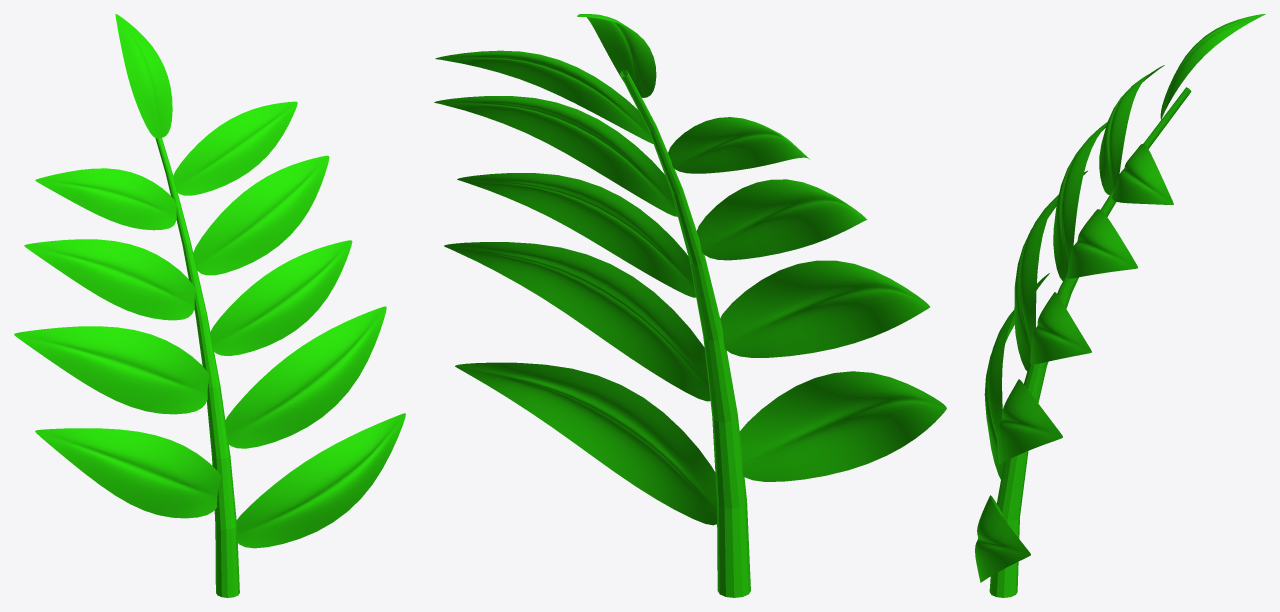
The model's file is plantOrientation.fbx.
3 renders of one model, left to right at view 1: azimuth 30°, elevation 25°; view 2: azimuth 150°, elevation 25°; view 3: azimuth 270°, elevation 25°, orthographic. The views are drawn at different scales.
Parts seen in each view (by area): view 1: Plane.002; view 2: Plane.002; view 3: Plane.002.
Part boxes in pixels (left/top/right/bottom): Plane.002: left=14, top=14, right=405, bottom=597; Plane.002: left=434, top=14, right=946, bottom=597; Plane.002: left=975, top=14, right=1265, bottom=597.
Size of the model in its own units: 171 by 221 by 101.
